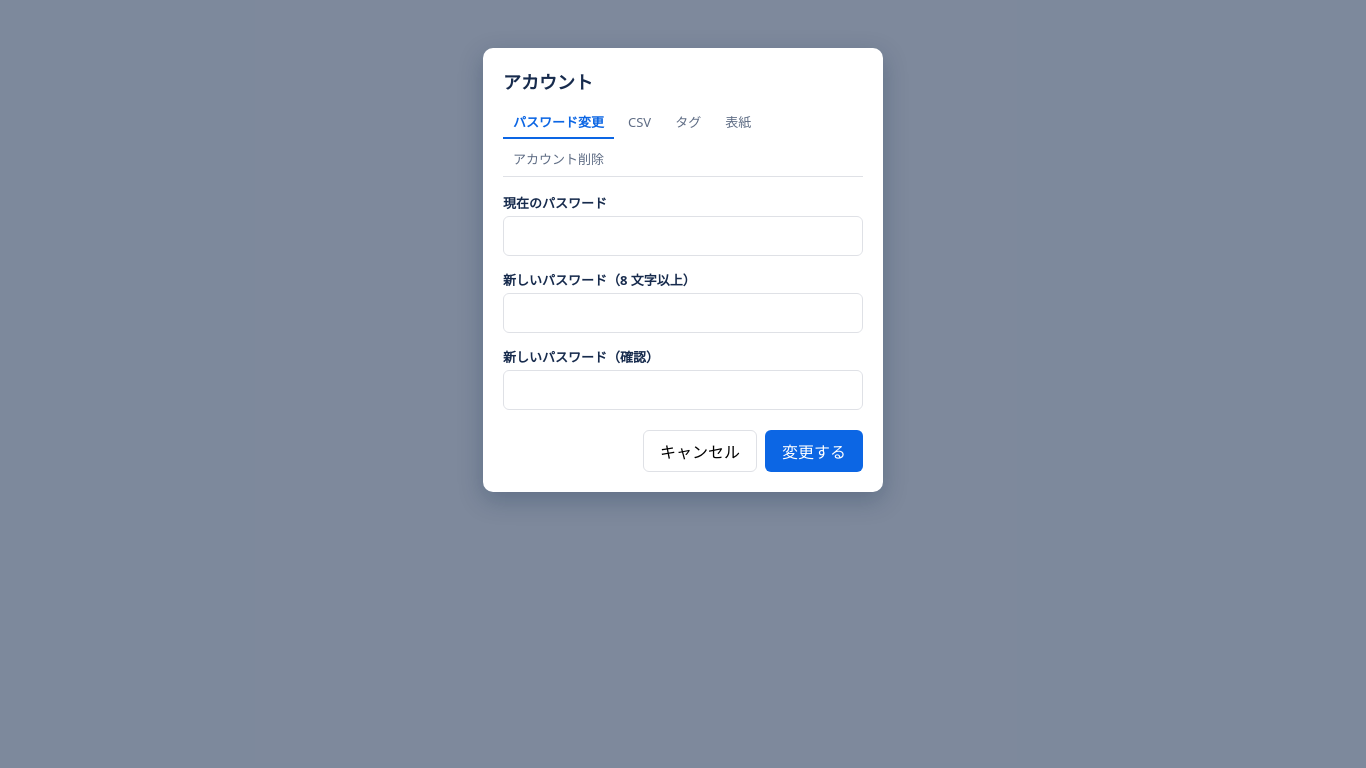
Scenario: AccountModal（アカウント削除） › API のエラーを表示する
This screenshot has width=1366, height=768.
Click the tab "アカウント削除" at x=558, y=160, box [503,143,614,176]
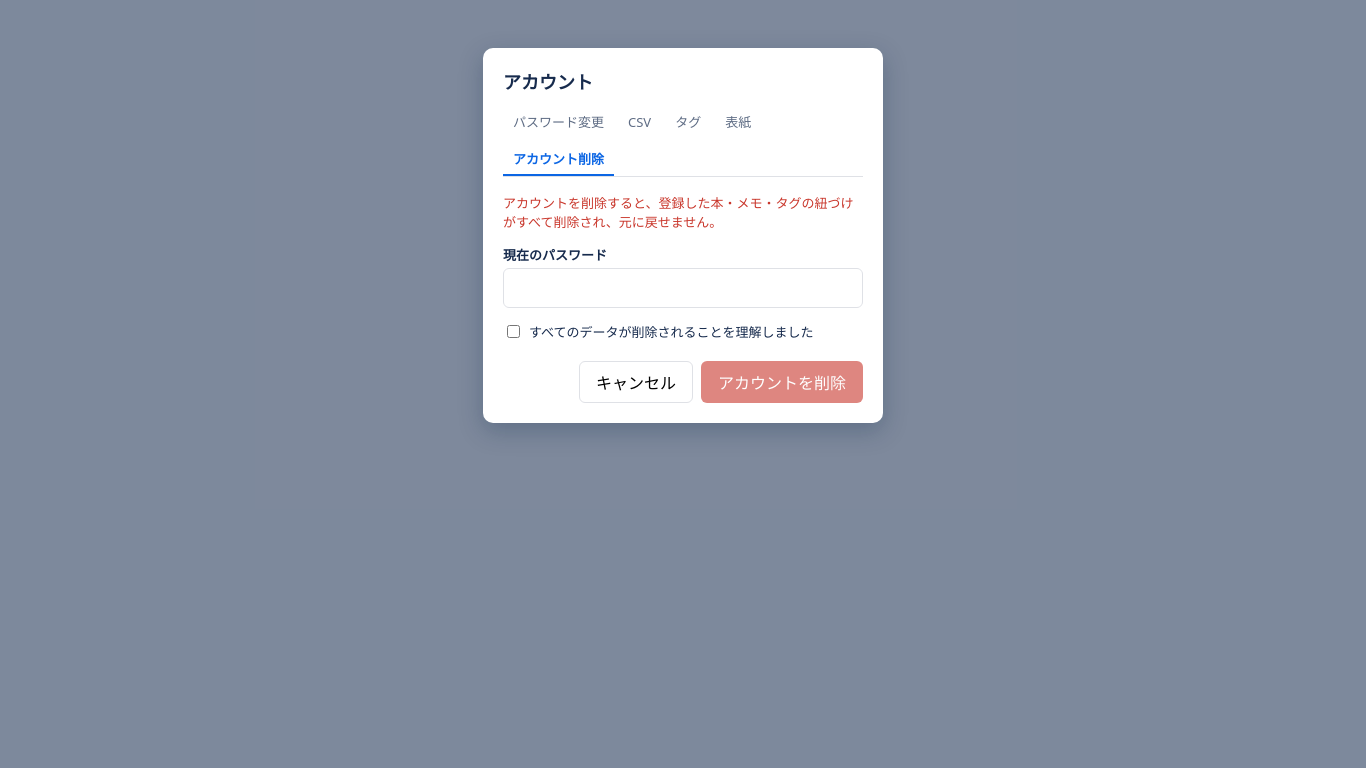
Type "current-pw" into the password field labelled "現在のパスワード" at x=683, y=288, box [503,268,863,308]
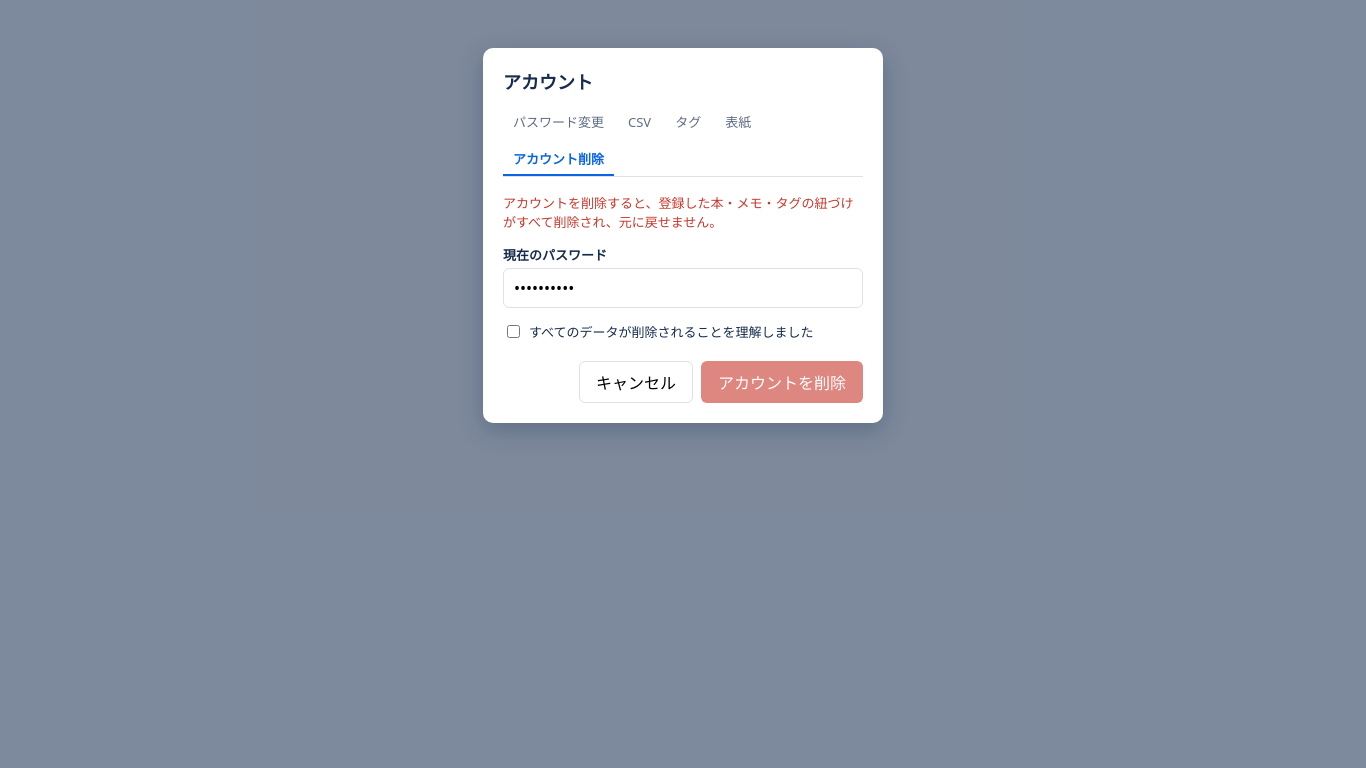
Click the checkbox labelled "すべてのデータが削除されることを理解しました" at x=514, y=332, box [507,325,520,338]
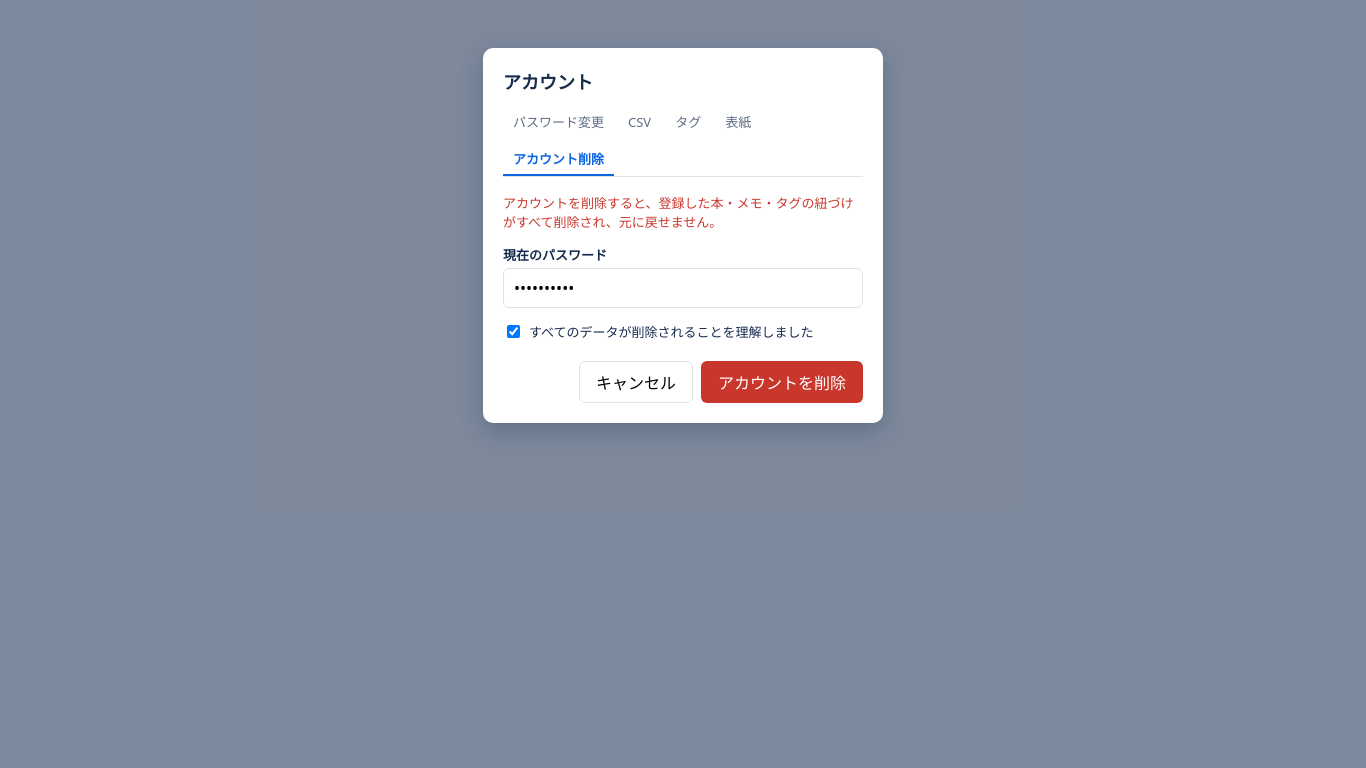
Submit the form with class "delete-form", box [503,193,863,403]
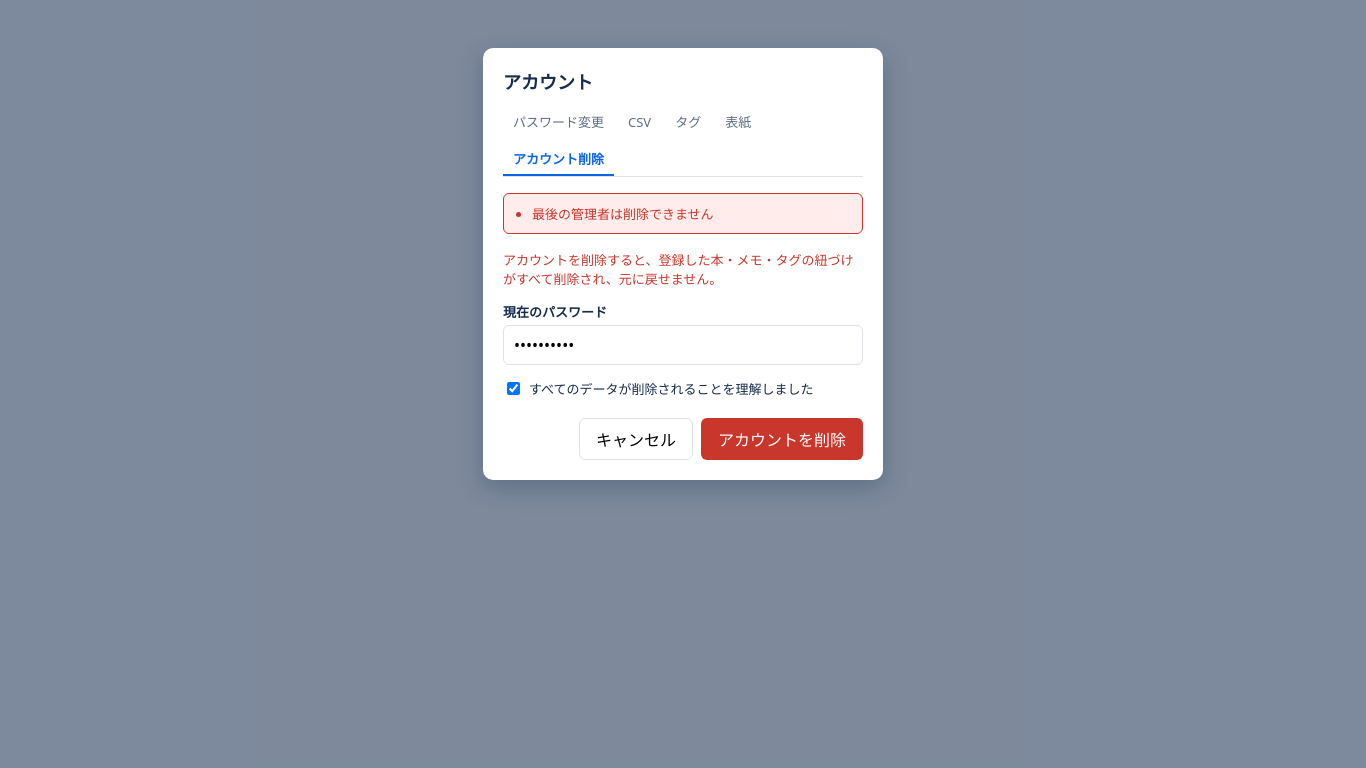
Expected: the message "最後の管理者は削除できません" is shown, [503,193,863,234]
